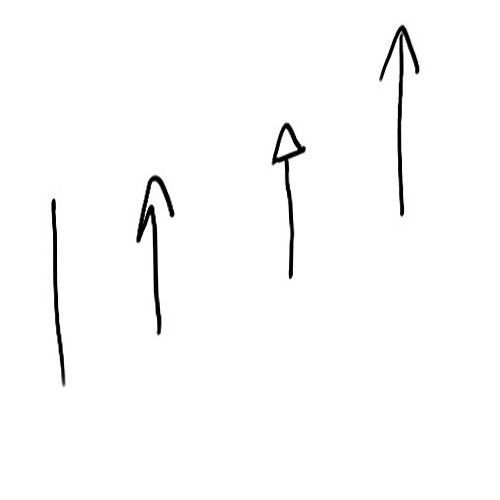arrow: (380, 23, 426, 218), (133, 171, 175, 337), (273, 121, 303, 279)
arrownohead: (45, 198, 70, 392)
